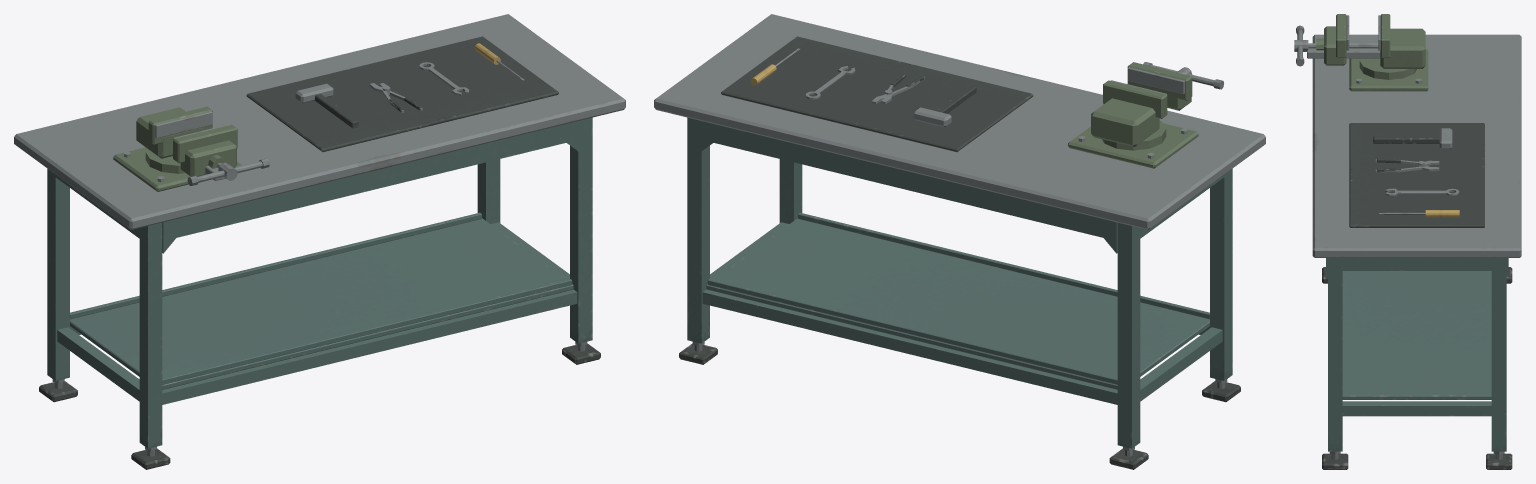
Rendered from workshop_bench_tool_covered.glb.
The picture shows the model from 3 angles, left to right: view 1: azimuth 30°, elevation 25°; view 2: azimuth 150°, elevation 25°; view 3: azimuth 270°, elevation 25°; orthographic projection. The views are drawn at different scales.
Parts seen in each view (by area): view 1: WorkshopBenchToolCovered; view 2: WorkshopBenchToolCovered; view 3: WorkshopBenchToolCovered.
Part boxes in pixels (bbox=[...]): WorkshopBenchToolCovered: bbox=[14, 14, 625, 469]; WorkshopBenchToolCovered: bbox=[654, 14, 1265, 469]; WorkshopBenchToolCovered: bbox=[1294, 14, 1521, 469].
Size of what is drawn, in the model's own units: 1.8 by 1.08 by 0.805.
Materials: 1 (1 with a texture image).
